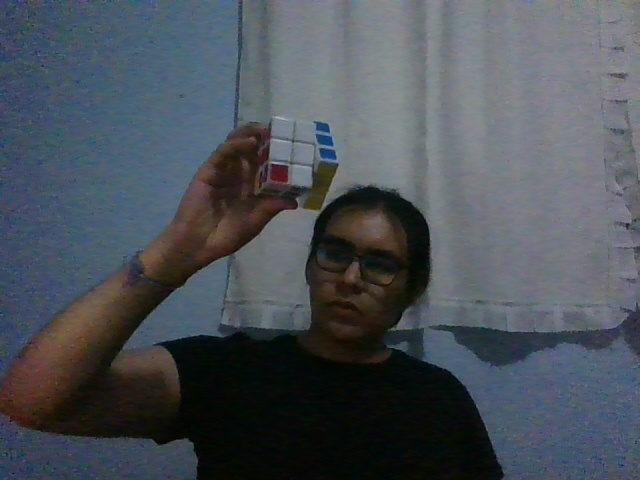rubik: (253, 116, 340, 211)
